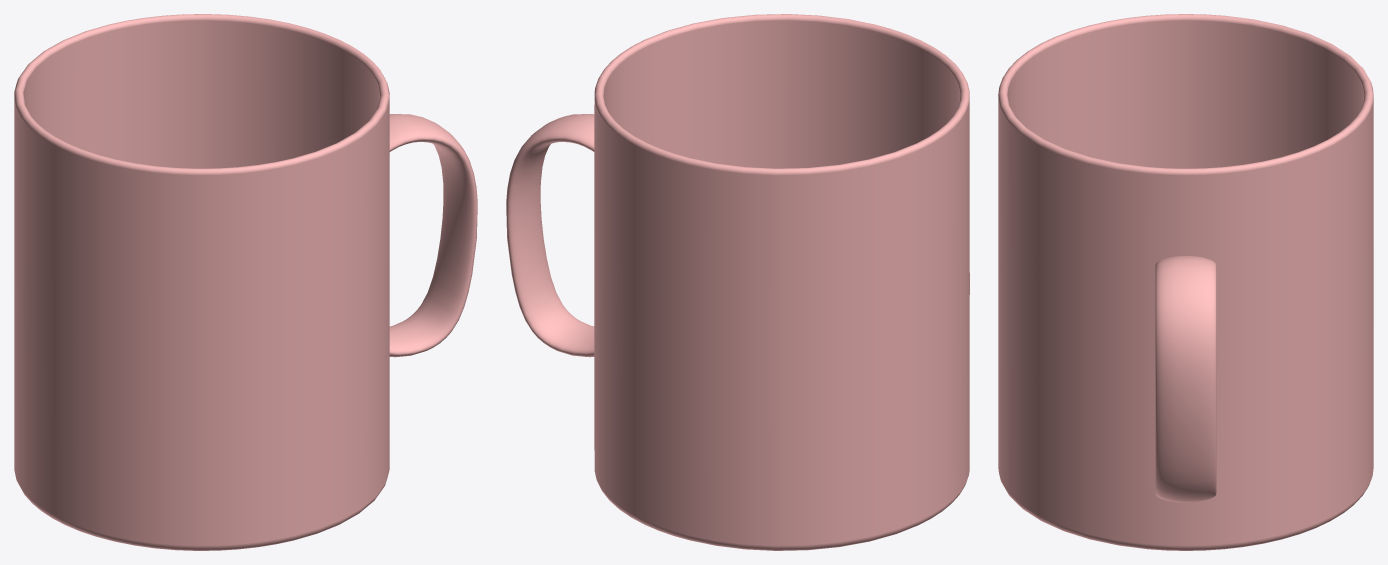
The model's file is 036_マグカップ.glb.
3 renders of one model, left to right at view 1: azimuth 30°, elevation 25°; view 2: azimuth 150°, elevation 25°; view 3: azimuth 270°, elevation 25°, orthographic.
Visible parts, largest first — view 1: Body; view 2: Body; view 3: Body.
Boxes of the visible parts, box(x1,y1,x2,y2) form: Body: box(14, 14, 477, 550); Body: box(506, 14, 969, 550); Body: box(998, 14, 1373, 550).
Bounding box in the file's own units: 0.1056 × 0.09 × 0.08.
